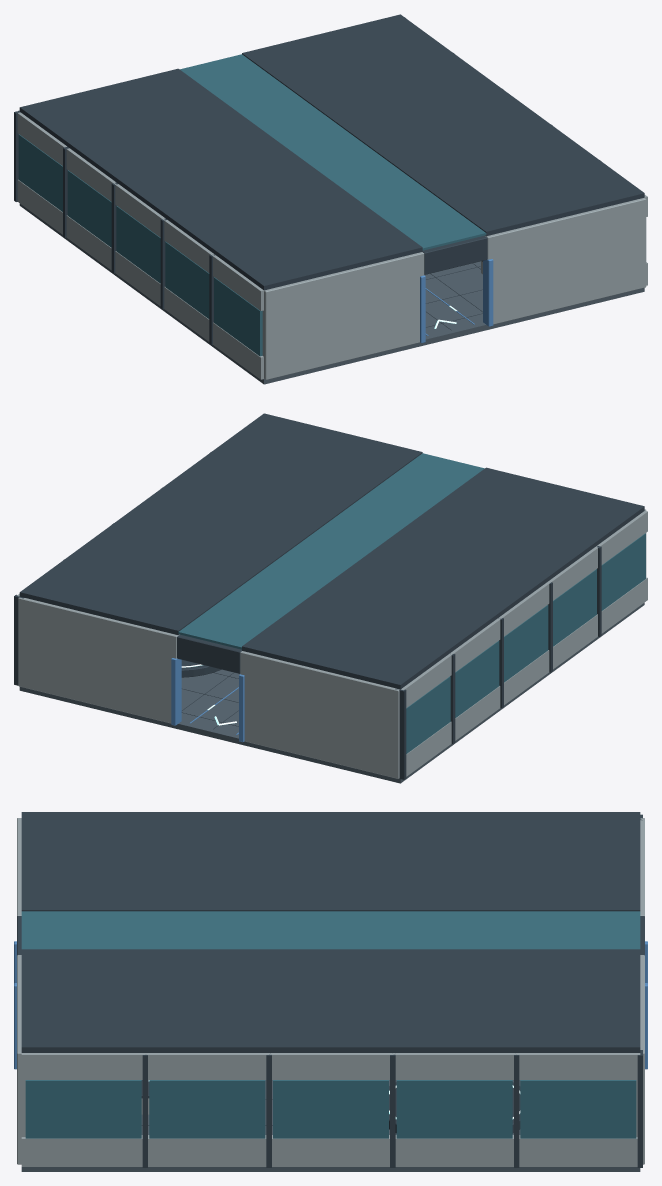
Rendered from zeru_observatory.glb.
The picture shows the model from 3 angles, top to bottom: view 1: azimuth 30°, elevation 25°; view 2: azimuth 150°, elevation 25°; view 3: azimuth 270°, elevation 25°; orthographic projection. The views are drawn at different scales.
Parts seen in each view (by area): view 1: roof-col, front_wall-col, side_walls-col, deck-col; view 2: roof-col, back_wall-col, side_walls-col, deck-col; view 3: roof-col, side_walls-col, deck-col, front_wall-col, back_wall-col.
Part boxes in pixels (x1=…): roof-col: x1=19, y1=14, x2=644, y2=290; front_wall-col: x1=262, y1=198, x2=646, y2=379; side_walls-col: x1=14, y1=17, x2=647, y2=379; deck-col: x1=19, y1=203, x2=644, y2=384; roof-col: x1=19, y1=413, x2=644, y2=689; back_wall-col: x1=18, y1=597, x2=399, y2=778; side_walls-col: x1=14, y1=452, x2=647, y2=779; deck-col: x1=19, y1=603, x2=644, y2=783; roof-col: x1=21, y1=812, x2=640, y2=1052; side_walls-col: x1=21, y1=814, x2=642, y2=1167; deck-col: x1=21, y1=1080, x2=640, y2=1171; front_wall-col: x1=14, y1=818, x2=25, y2=1164; back_wall-col: x1=636, y1=818, x2=647, y2=1164.
Size of the model in its own units: 36.9 by 8.9 by 41.
